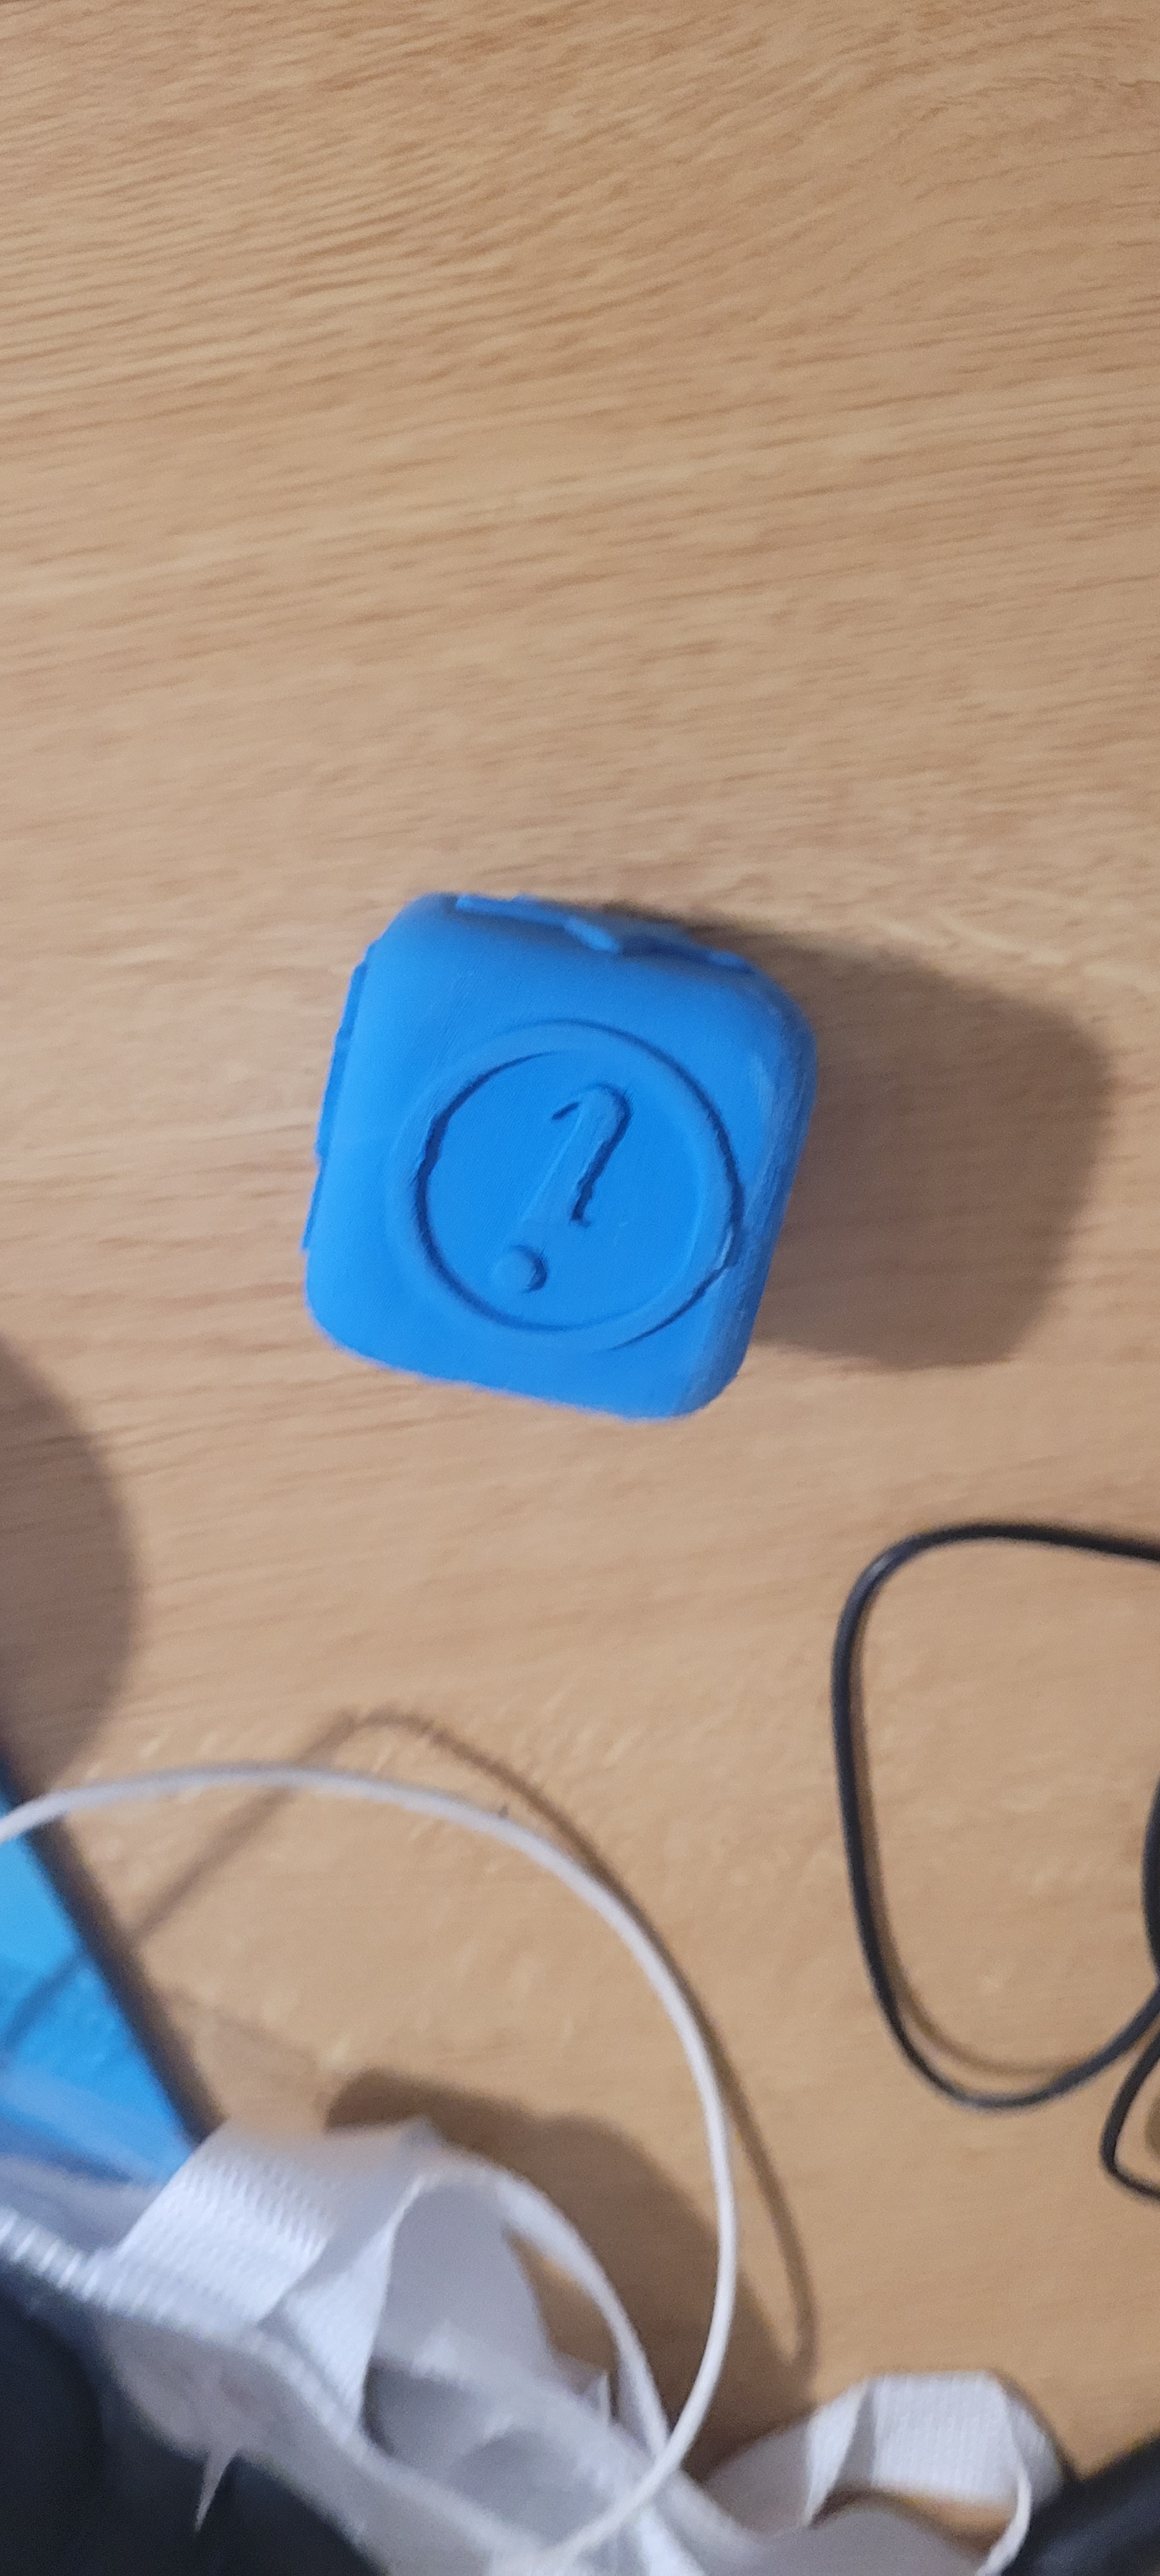Info: (373, 1069, 774, 1365)
